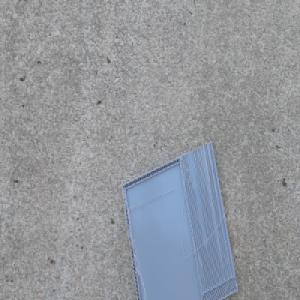PlasticPart: (121, 138, 238, 299)
